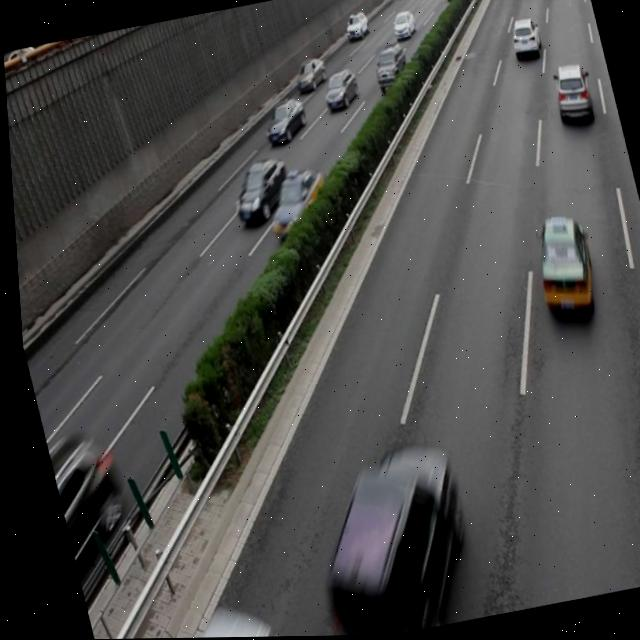car: (287, 435, 477, 637), (519, 211, 598, 321), (256, 164, 332, 243), (223, 155, 293, 227), (160, 602, 266, 639), (545, 62, 593, 127), (256, 96, 309, 149), (367, 43, 411, 92), (316, 67, 360, 113), (289, 54, 328, 95)
